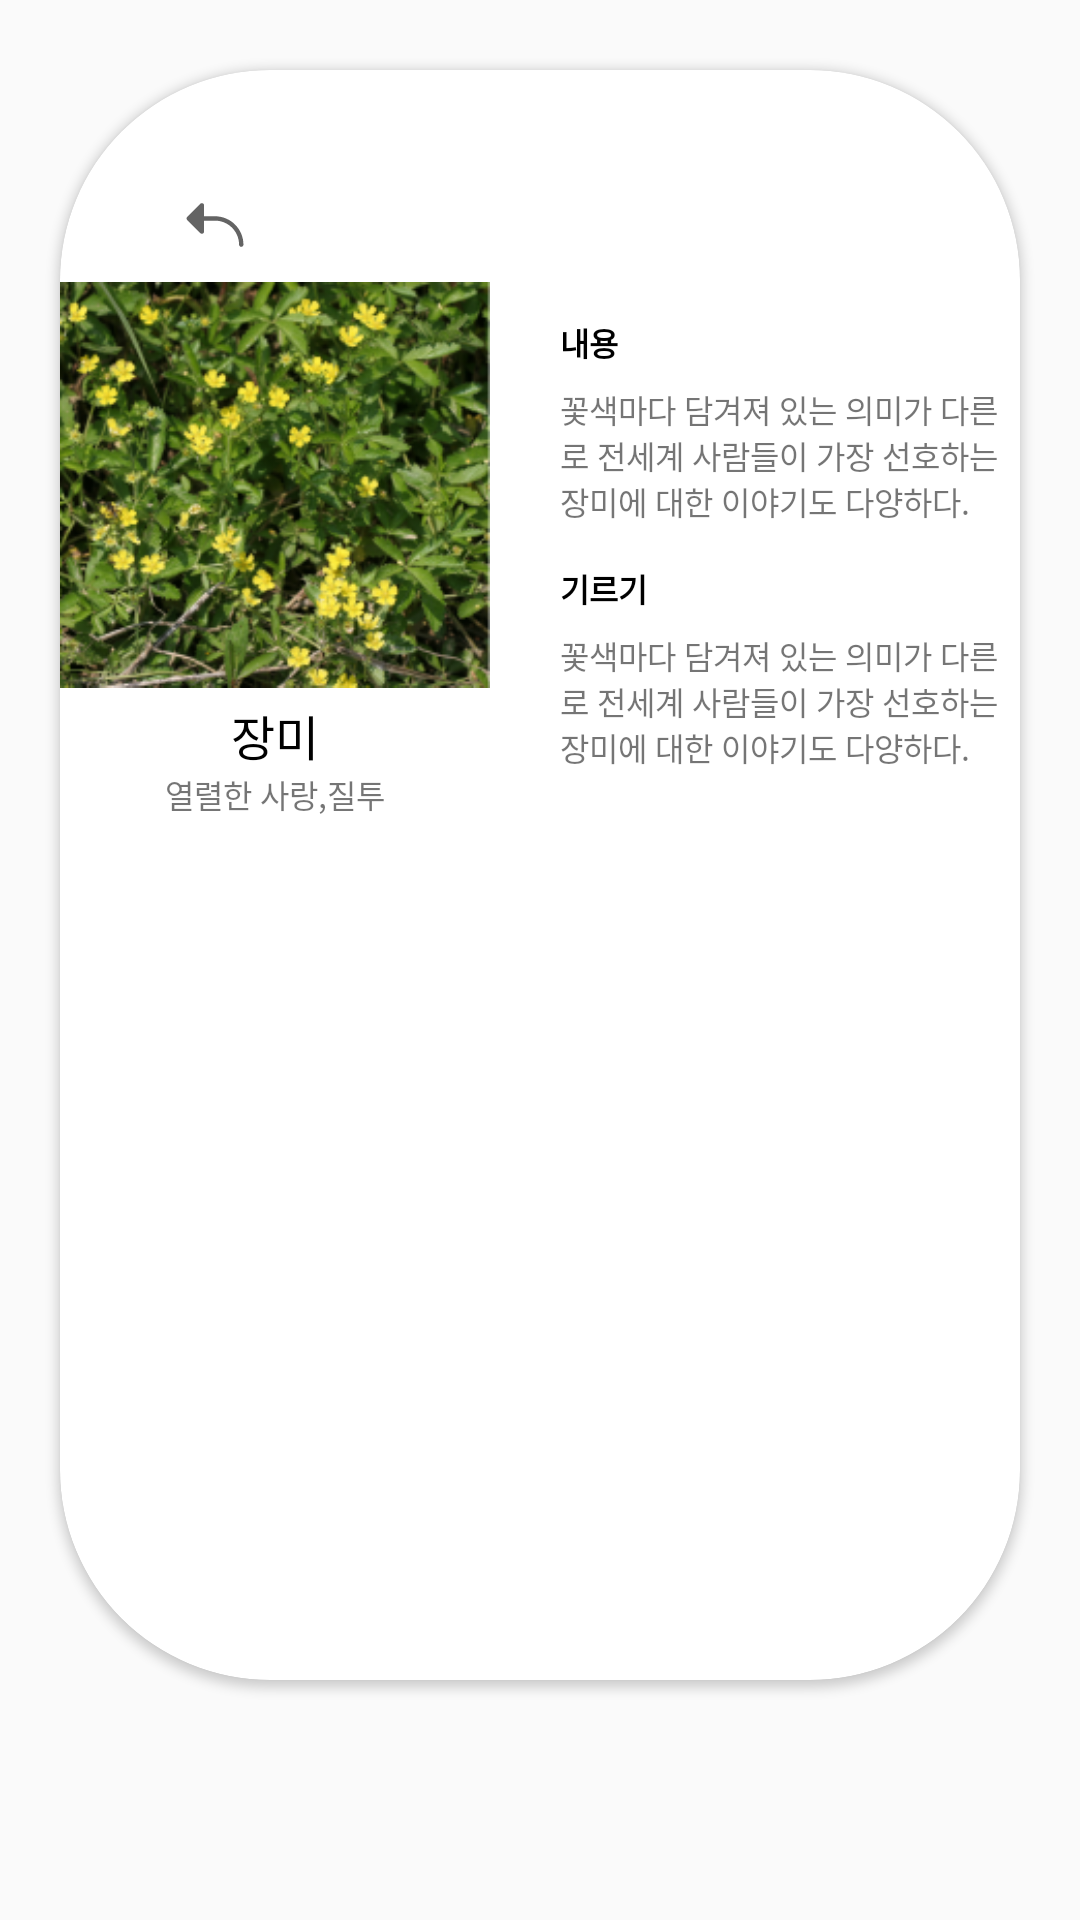

Screen size 1080px x 1920px. Icon name, then its center in pixels as (x,y):
arrowbendupleft: (215,225)
